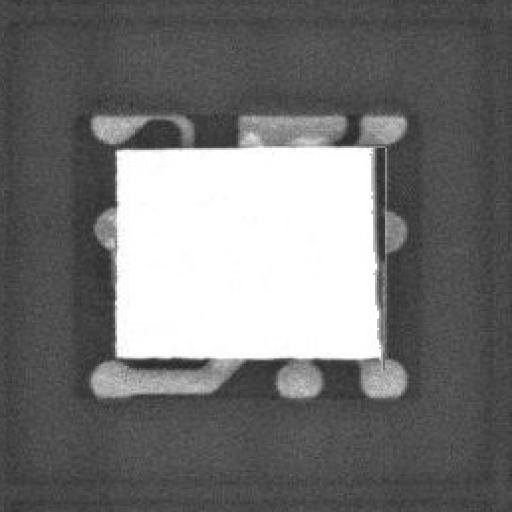DIE_BROKEN: (361, 138, 389, 349)
